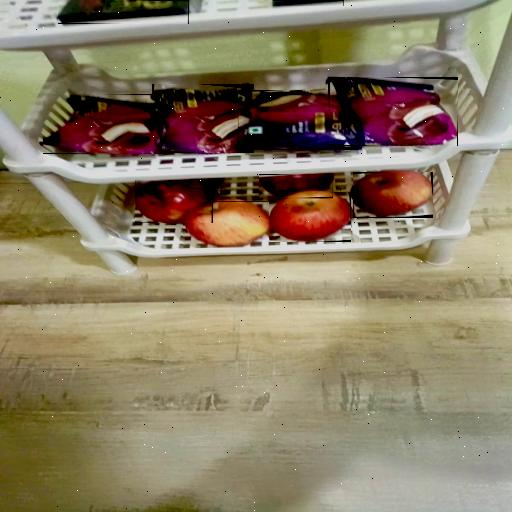Apple: (268, 192, 351, 242), (183, 201, 269, 248), (353, 172, 433, 218), (135, 180, 213, 223), (259, 174, 333, 198), (190, 179, 222, 189)
Choco Fills: (58, 0, 189, 24), (273, 0, 344, 6)
Choco Pie: (329, 77, 457, 146), (238, 90, 359, 150), (43, 94, 162, 154), (152, 84, 254, 153)
